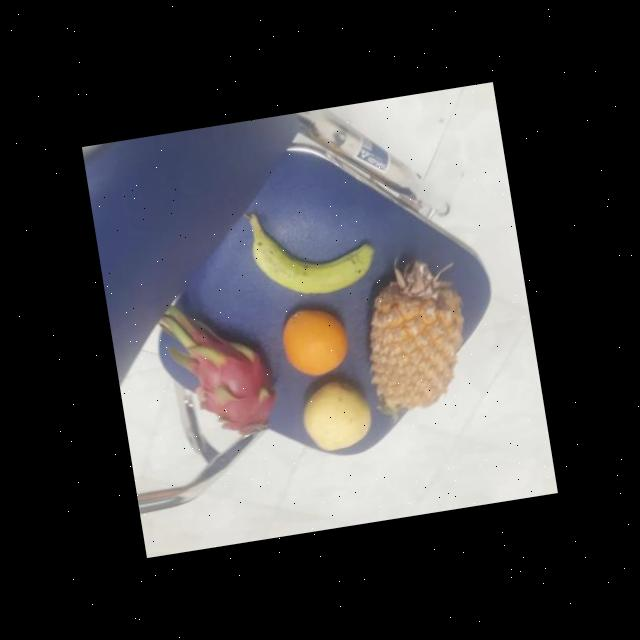banana: (244, 208, 378, 306)
orange: (276, 302, 352, 380)
pear: (294, 373, 378, 456)
pineapple: (351, 262, 478, 423)
pitaya: (185, 338, 283, 444)
